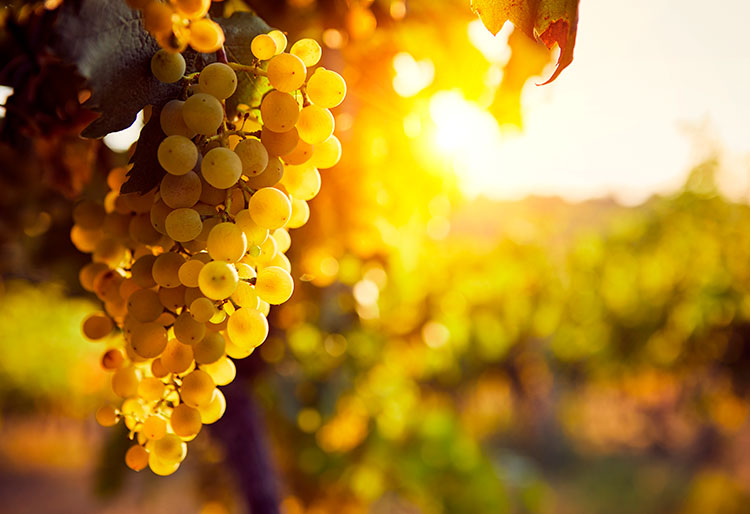Green grapes: (84, 32, 355, 487)
